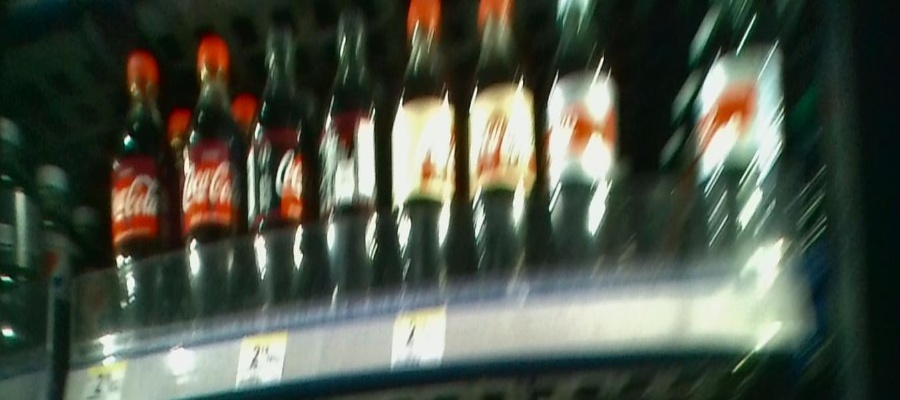bottle: (463, 1, 543, 291), (104, 36, 178, 341), (386, 4, 462, 297), (313, 12, 385, 306), (243, 14, 312, 314), (545, 1, 618, 276), (178, 35, 243, 329)
